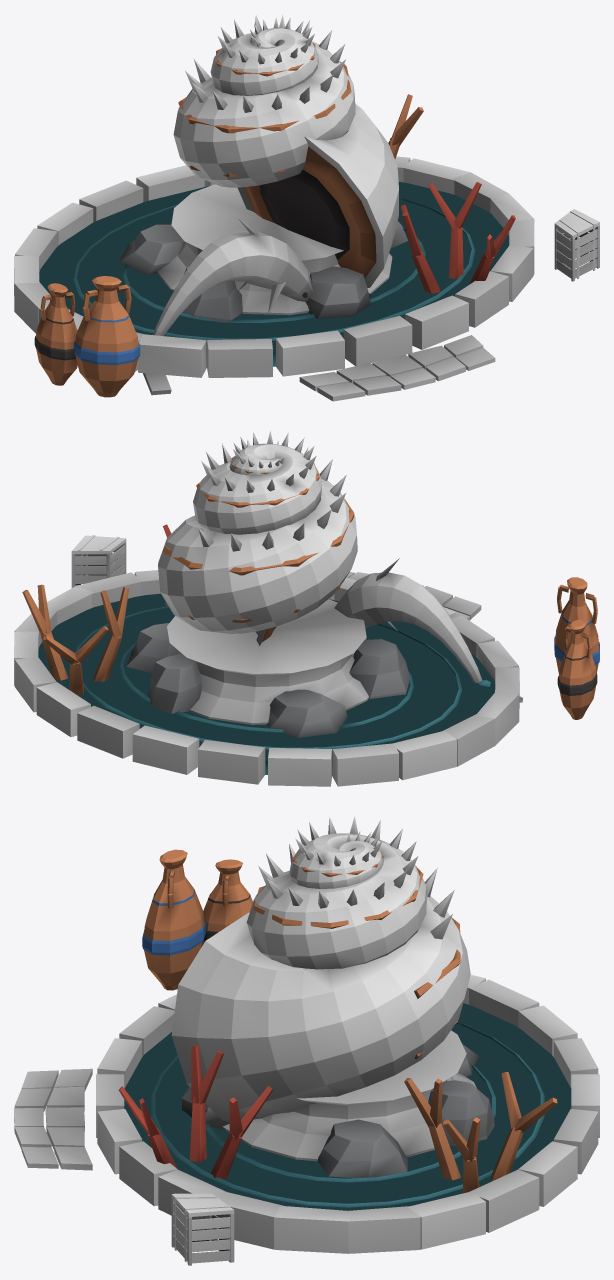
Rendered from tritons-conch-l1.glb.
3 views of the same model, one above another, from view 1: azimuth 30°, elevation 25°; view 2: azimuth 150°, elevation 25°; view 3: azimuth 270°, elevation 25° (orthographic). The views are drawn at different scales.
Parts seen in each view (by area): view 1: tritons-conch-l1; view 2: tritons-conch-l1; view 3: tritons-conch-l1.
Boxes of the visible parts, bbox=[...] form: tritons-conch-l1: bbox=[14, 15, 599, 401]; tritons-conch-l1: bbox=[14, 430, 599, 786]; tritons-conch-l1: bbox=[14, 816, 599, 1265].
Bounding box in the file's own units: 1.63 × 0.7655 × 1.33.
